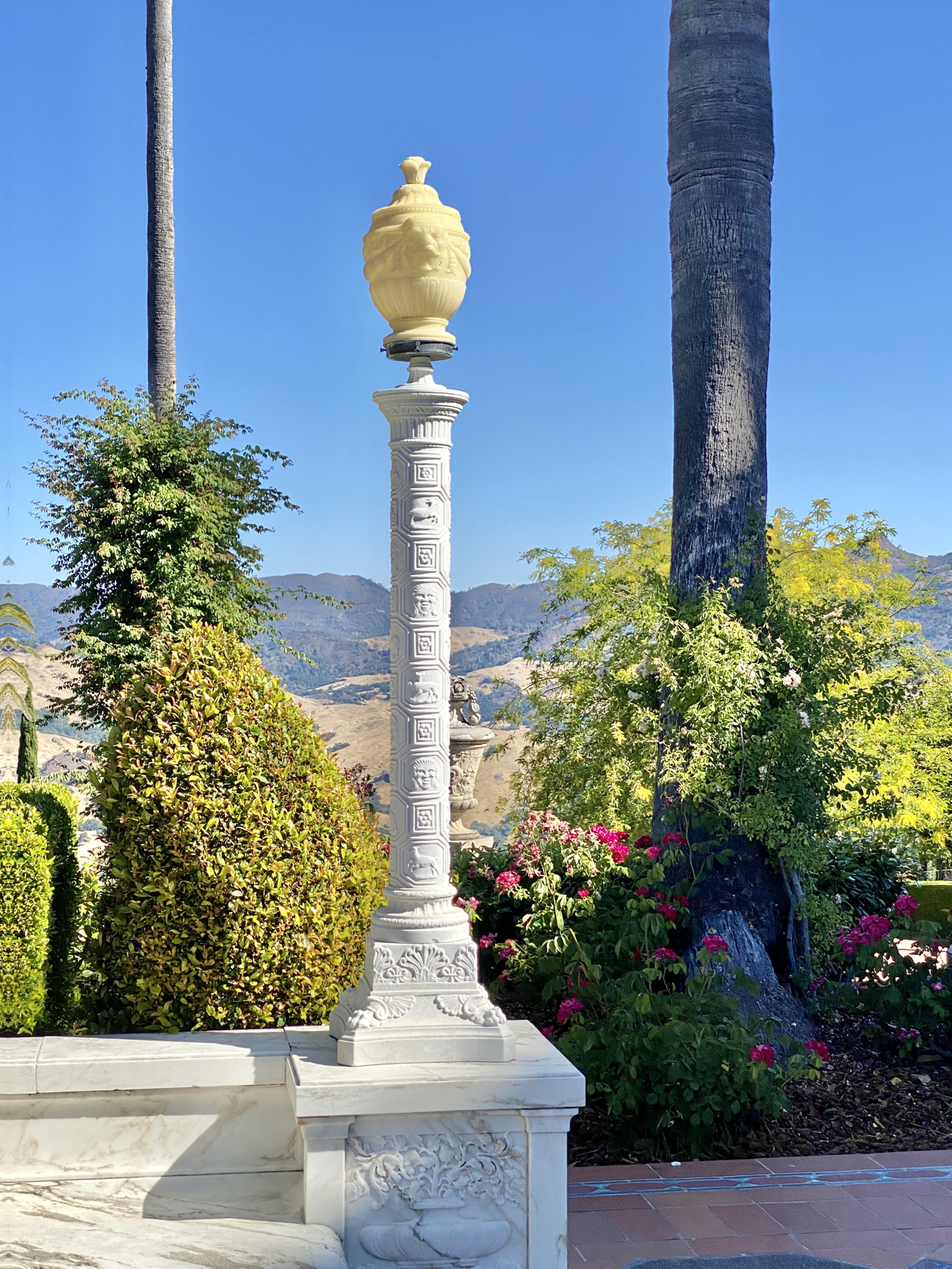poste: (341, 155, 524, 1051)
